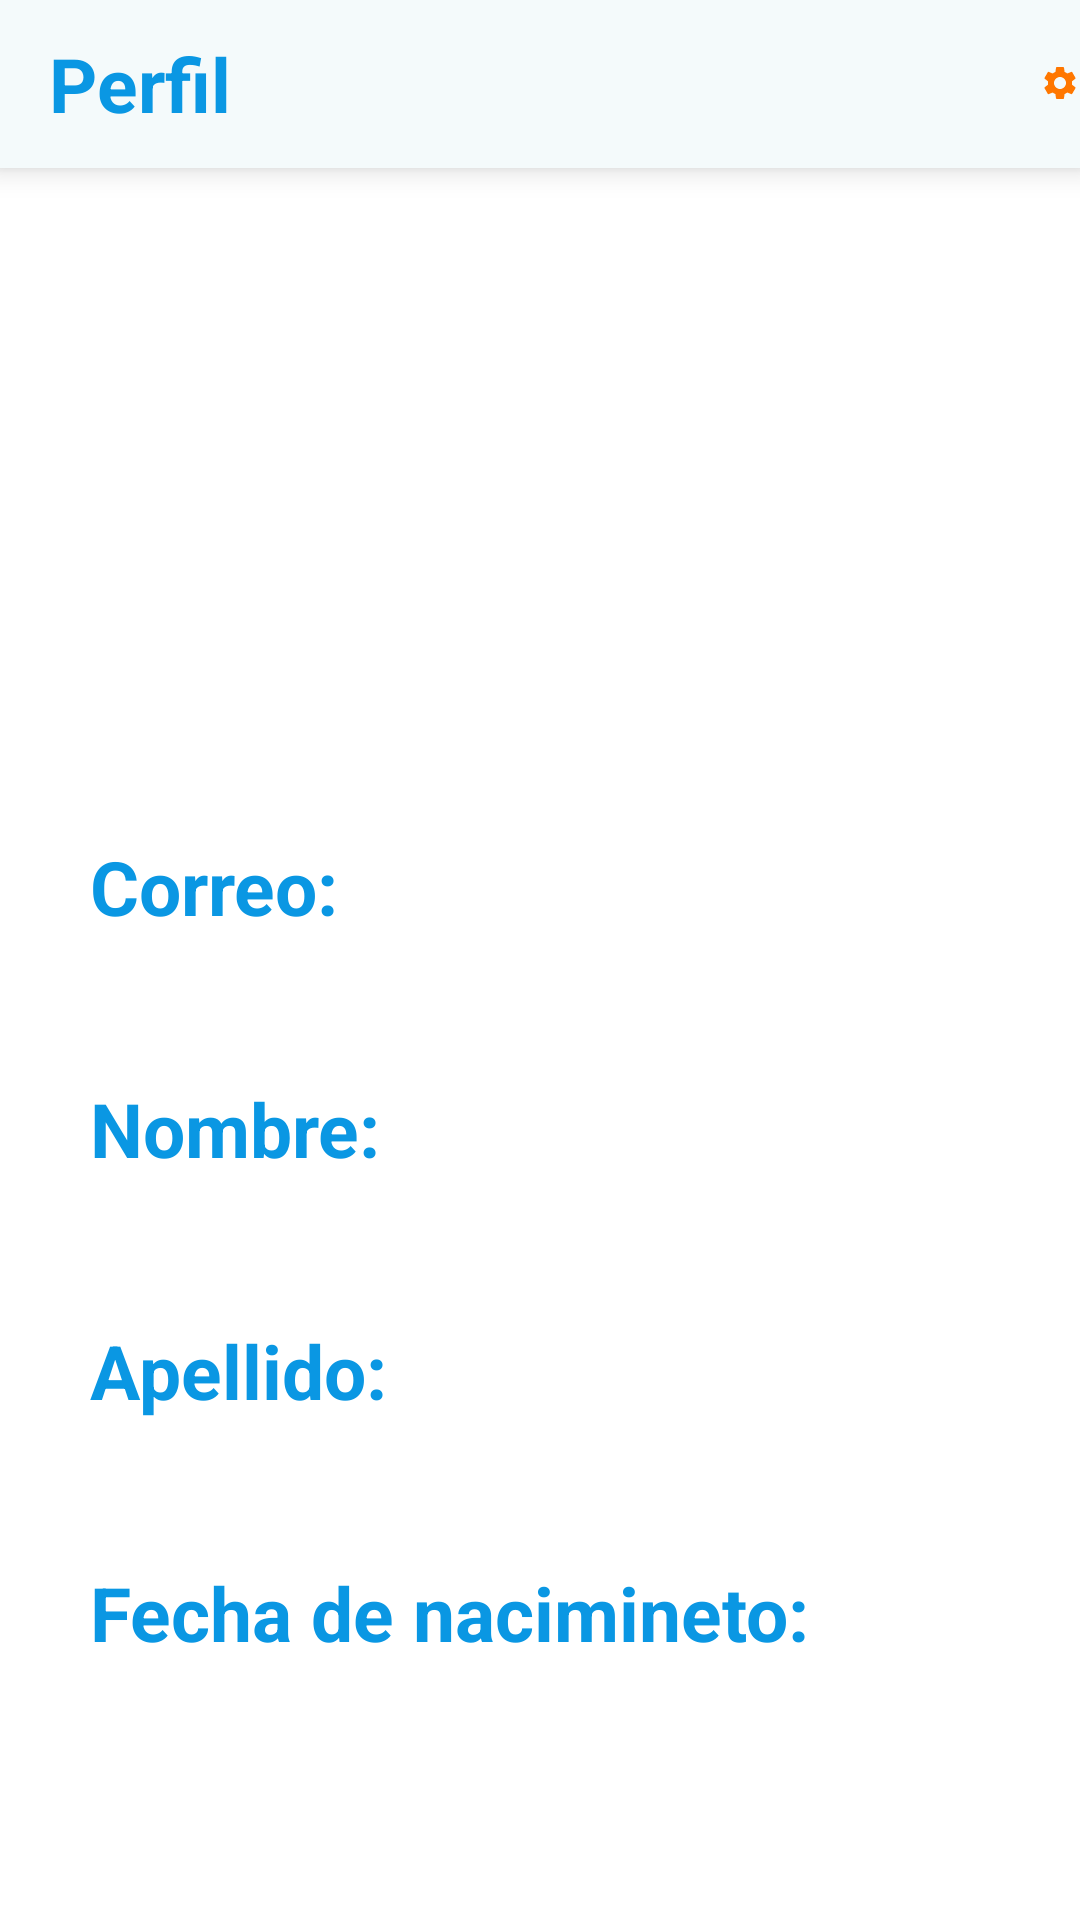

Named icons in this screenshot (1080px×1920px) and their centers, (x,y):
settings: (1060,83)
